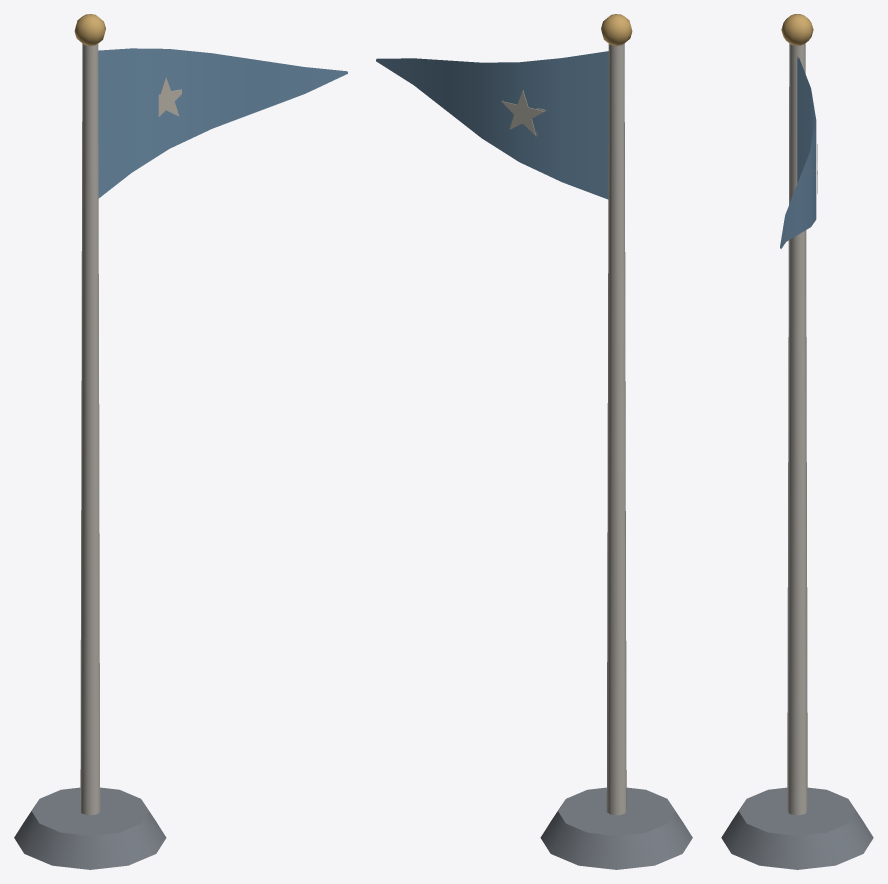
Rendered from prop_sports_flagpole.glb.
3 renders of one model, left to right at view 1: azimuth 30°, elevation 25°; view 2: azimuth 150°, elevation 25°; view 3: azimuth 270°, elevation 25°, orthographic.
Visible parts, largest first — view 1: flagpole; view 2: flagpole; view 3: flagpole.
Part boxes in pixels (x1=…): flagpole: x1=14, y1=14, x2=347, y2=869; flagpole: x1=376, y1=14, x2=692, y2=869; flagpole: x1=721, y1=14, x2=873, y2=869.
Size of the model in its own units: 1.24 by 3.1 by 0.52.
